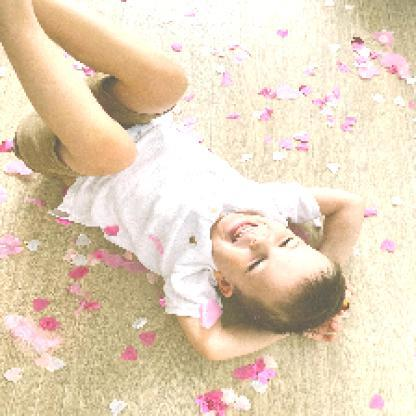child: (1, 1, 366, 362)
